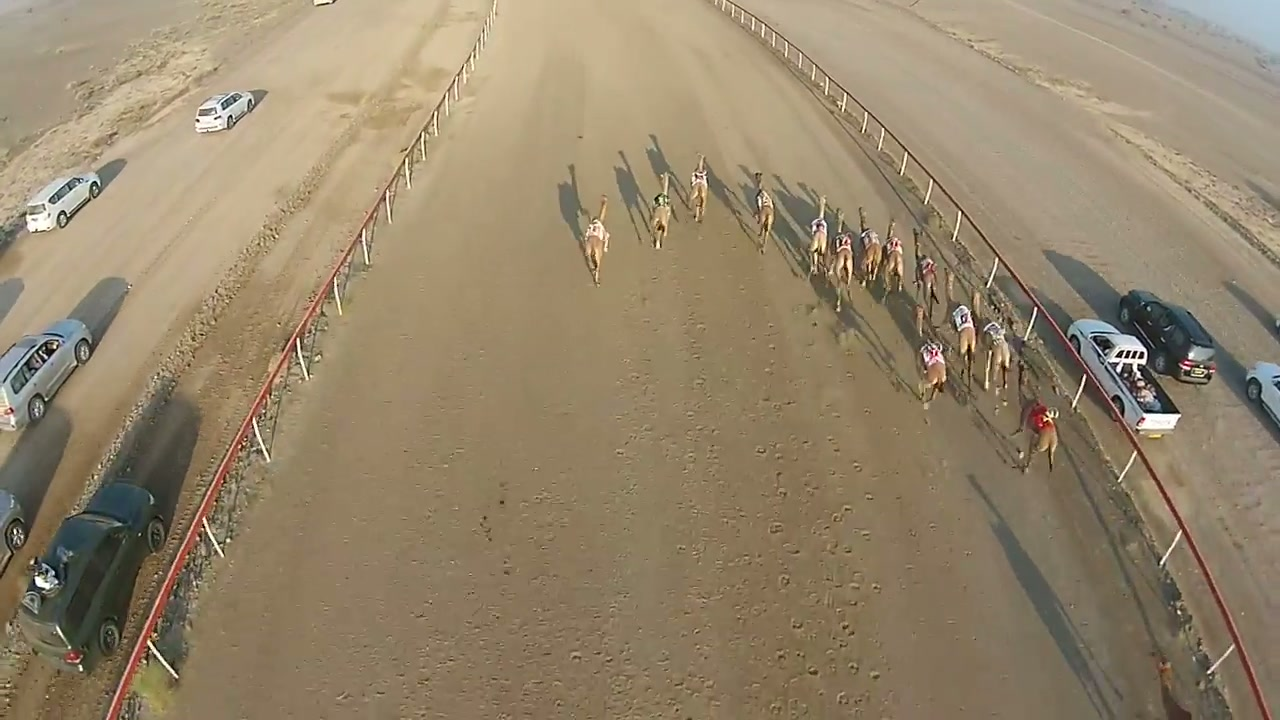animal_foot_print: (364, 226, 888, 719)
